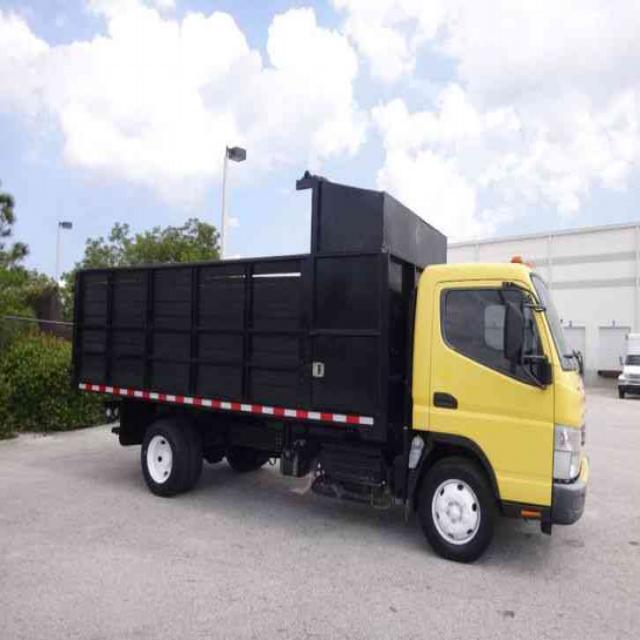truck: (73, 251, 588, 557)
